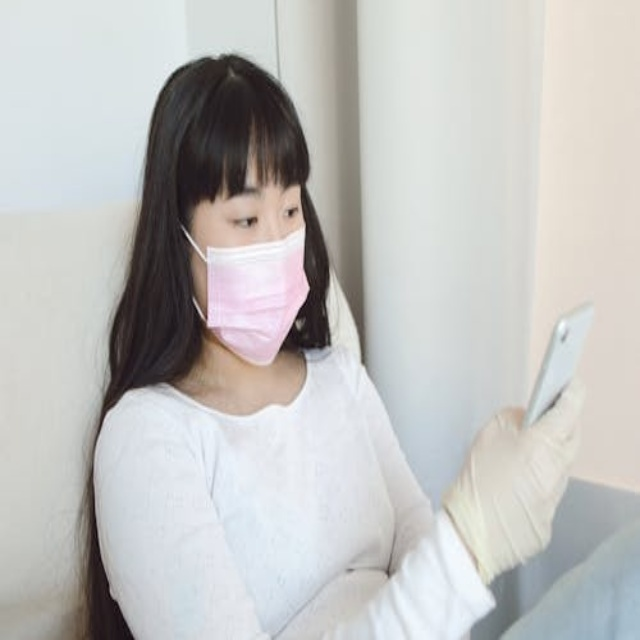Guantes: (443, 373, 585, 587)
Mascara: (181, 215, 311, 364)
Sin_gafas: (206, 167, 311, 238)
